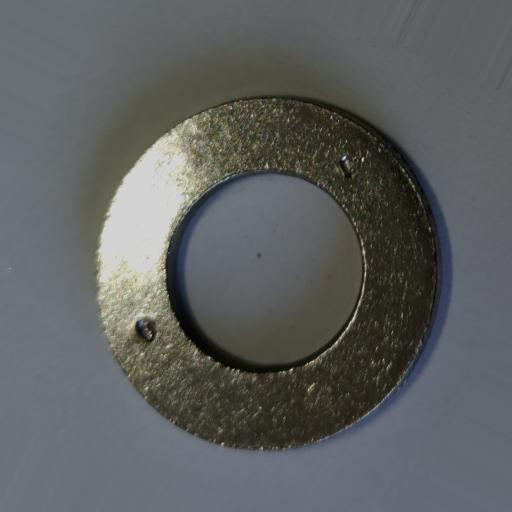circular_cavity: (134, 317, 157, 342), (338, 155, 356, 178)
